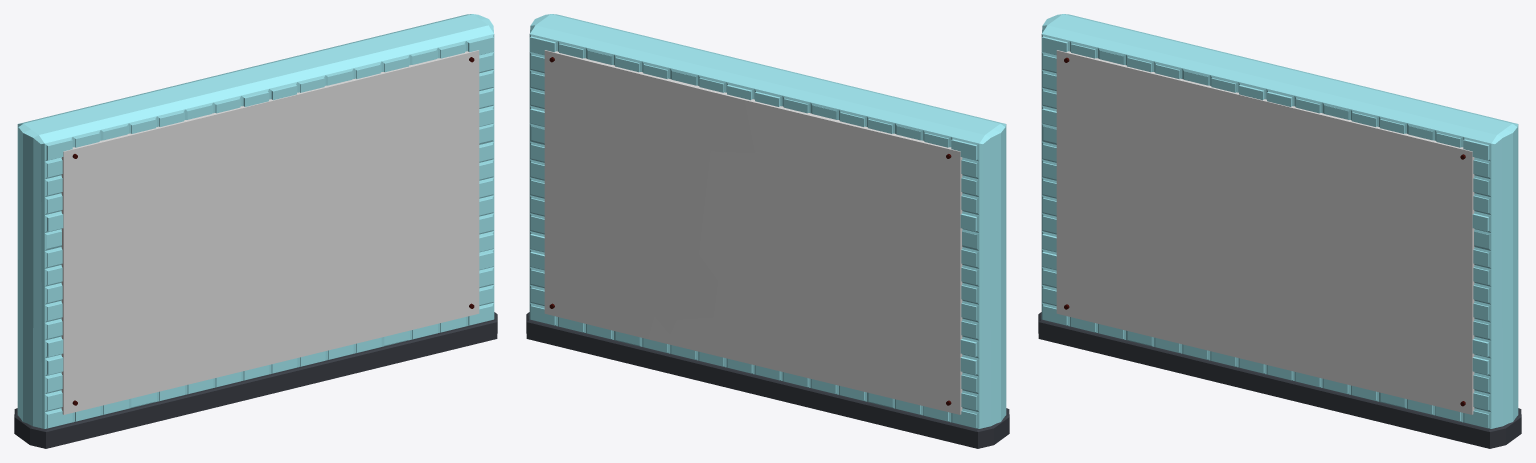
The model's file is paredeComEspelho.fbx.
The picture shows the model from 3 angles, left to right: view 1: azimuth 30°, elevation 25°; view 2: azimuth 150°, elevation 25°; view 3: azimuth 330°, elevation 25°; orthographic projection.
Visible parts, largest first — view 1: Cube.002, Cube, Cube.001; view 2: Cube.002, Cube, Cube.001; view 3: Cube.002, Cube, Cube.001.
Boxes of the visible parts, <box> form: Cube.002: <box>61,50,479,414</box>; Cube: <box>17,14,494,428</box>; Cube.001: <box>14,312,497,448</box>; Cube.002: <box>544,50,962,414</box>; Cube: <box>529,14,1006,428</box>; Cube.001: <box>526,312,1009,448</box>; Cube.002: <box>1056,50,1474,414</box>; Cube: <box>1041,14,1518,428</box>; Cube.001: <box>1038,312,1521,448</box>.
Size of the model in its own units: 228 by 144 by 28.81.
